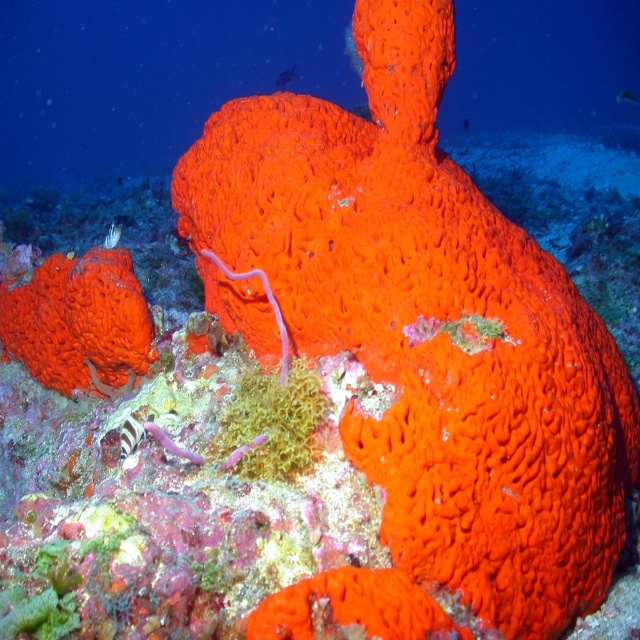Fish: (276, 68, 295, 91)
